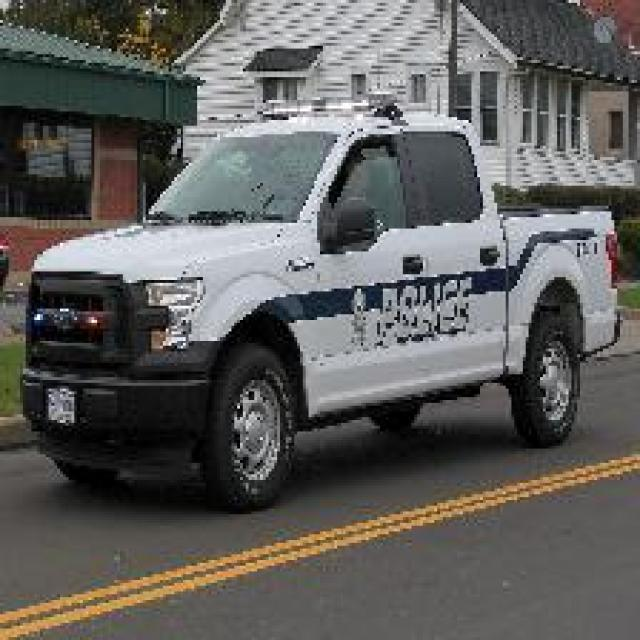Police-car: (17, 94, 623, 509)
